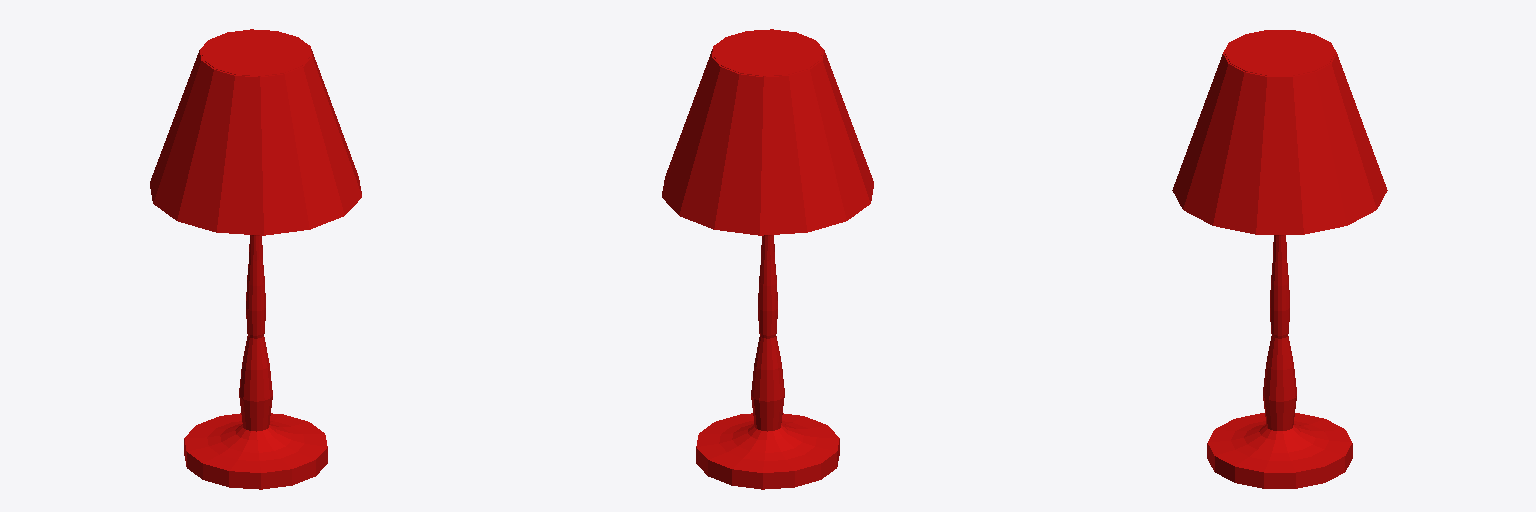
File: lamparafinal.obj
3 renders of one model, left to right at view 1: azimuth 30°, elevation 25°; view 2: azimuth 150°, elevation 25°; view 3: azimuth 270°, elevation 25°, orthographic.
Visible parts, largest first — view 1: Cylinder; view 2: Cylinder; view 3: Cylinder.
Boxes of the visible parts, x1,y1,x2,y2 form: Cylinder: [150, 29, 361, 489]; Cylinder: [662, 29, 873, 489]; Cylinder: [1172, 30, 1387, 488].
Bounding box in the file's own units: 1.16 × 2.47 × 1.19.